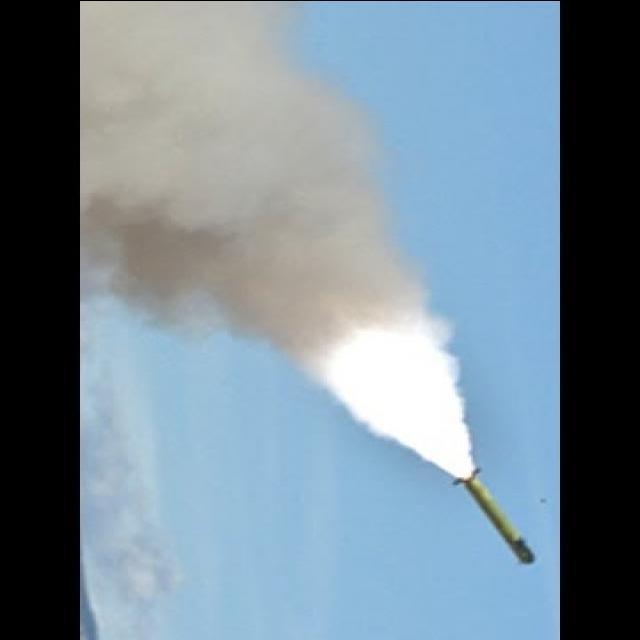missile: (448, 457, 538, 562)
